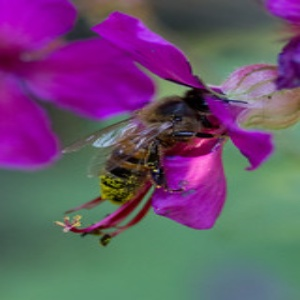bee: (94, 89, 218, 210)
